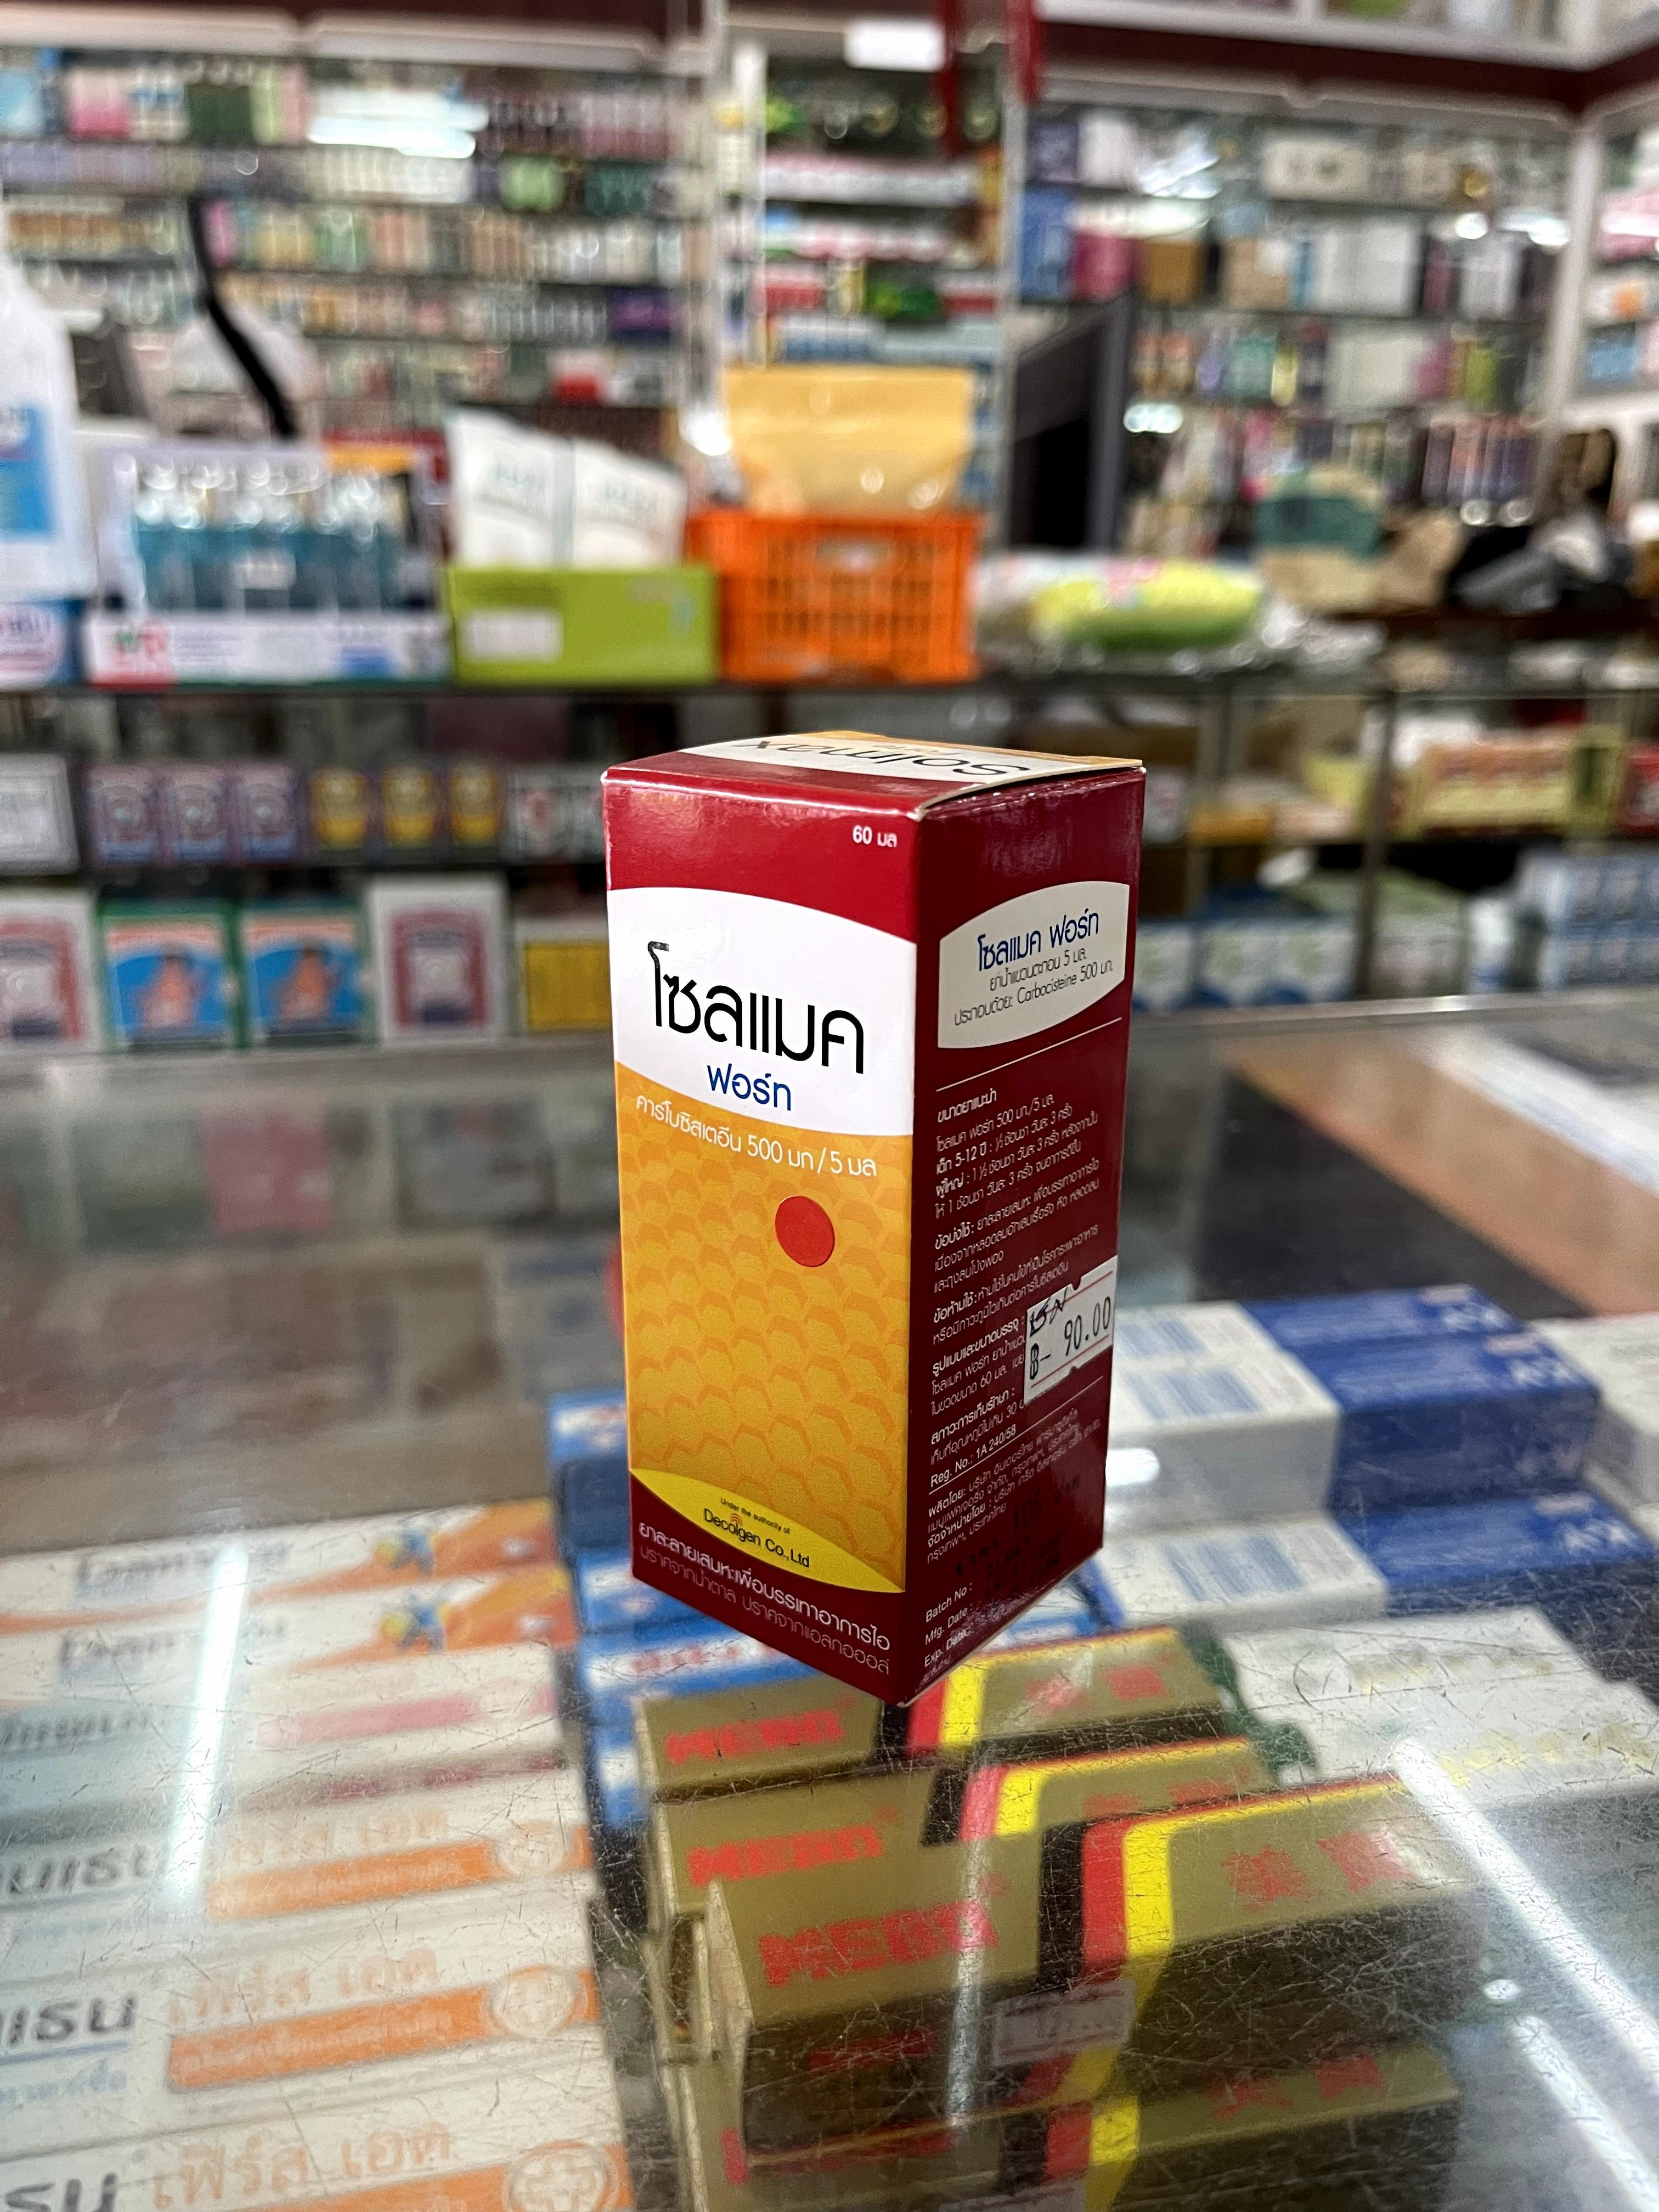Solmax: (606, 730, 1141, 1698)
